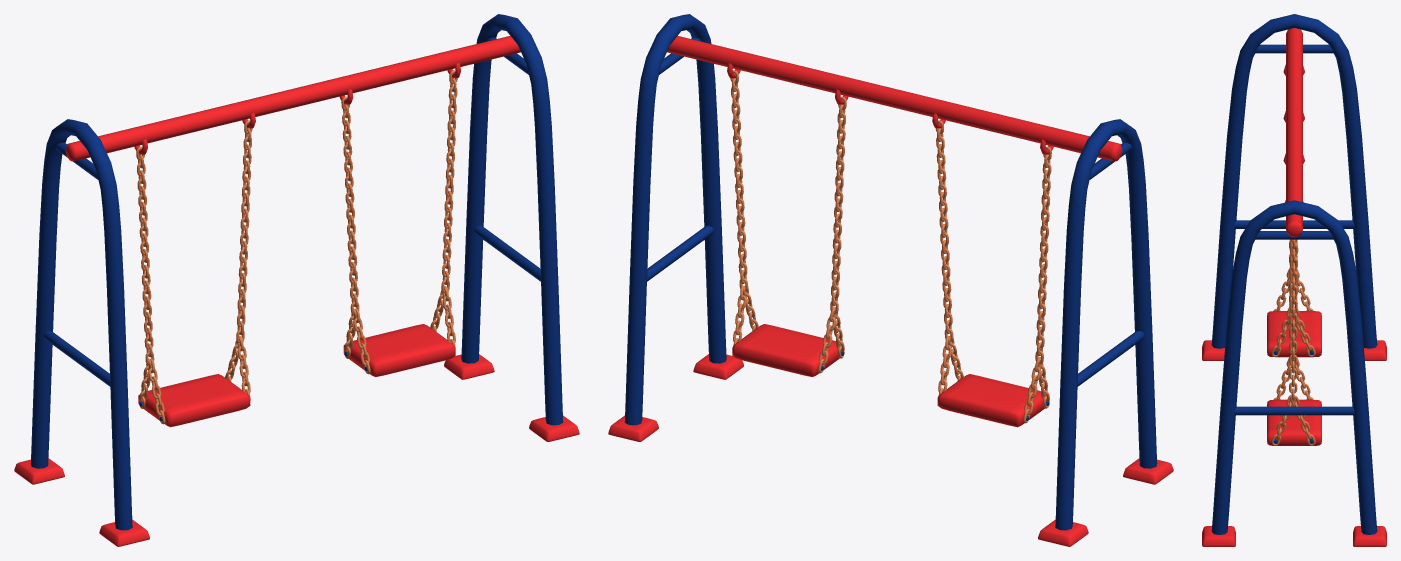
Rendered from swing.gltf.
The picture shows the model from 3 angles, left to right: view 1: azimuth 30°, elevation 25°; view 2: azimuth 150°, elevation 25°; view 3: azimuth 270°, elevation 25°; orthographic projection. The views are drawn at different scales.
Parts seen in each view (by area): view 1: swing; view 2: swing; view 3: swing.
Boxes of the visible parts, x1,y1,x2,y2 form: swing: [14, 14, 579, 546]; swing: [608, 14, 1173, 546]; swing: [1202, 14, 1386, 546].
Size of the model in its own units: 200 by 158 by 78.12.
1 material, 1 textured.
